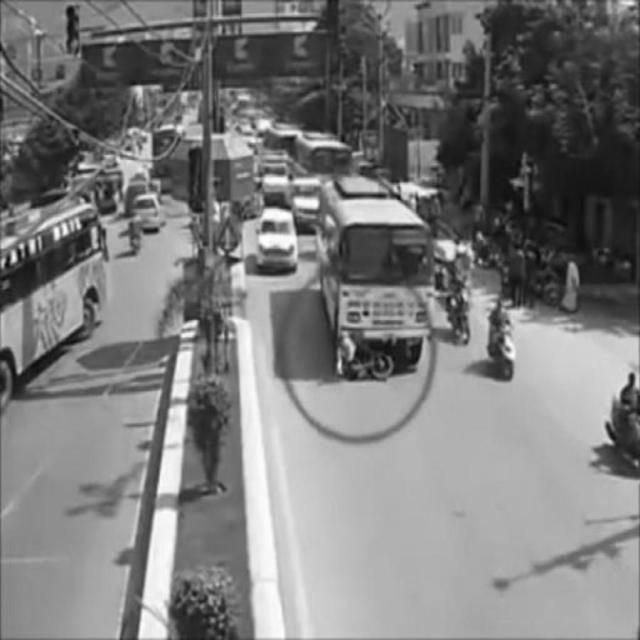accident: (318, 178, 429, 382)
vehicle: (487, 299, 517, 381), (259, 209, 297, 266), (448, 276, 474, 346), (129, 209, 143, 256)
